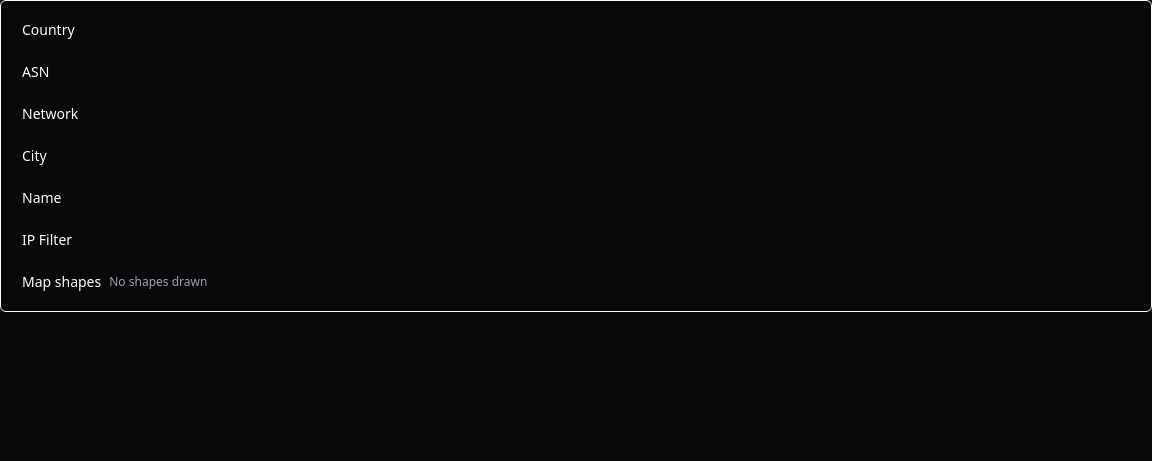
Test: FilterRail › typing an ASN digit substring filters the ASN options
Click the heading "ASN" at (36, 72), box top-left (22, 62), bottom-right (49, 81)
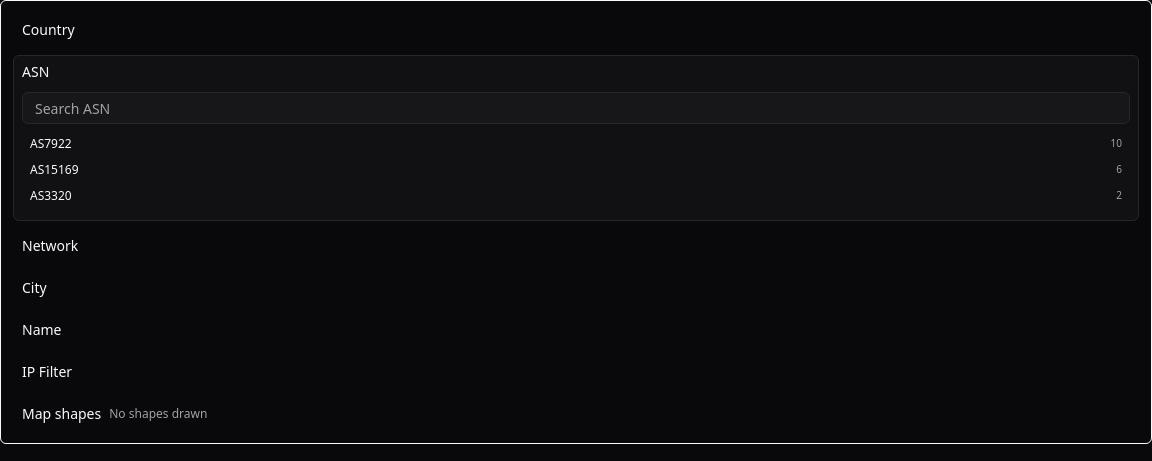
Type "15" into the search field with placeholder "Search ASN" at (576, 108), box top-left (22, 92), bottom-right (1130, 124)
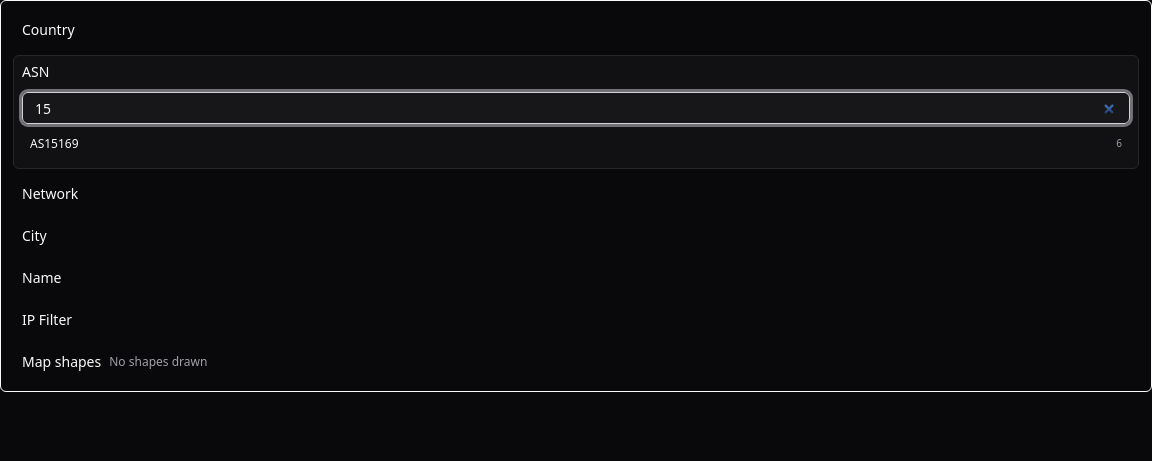
Now the button "AS15169 6" is shown, box top-left (22, 132), bottom-right (1130, 156)
Now the button "AS7922" is gone
Now the button "AS3320" is gone
